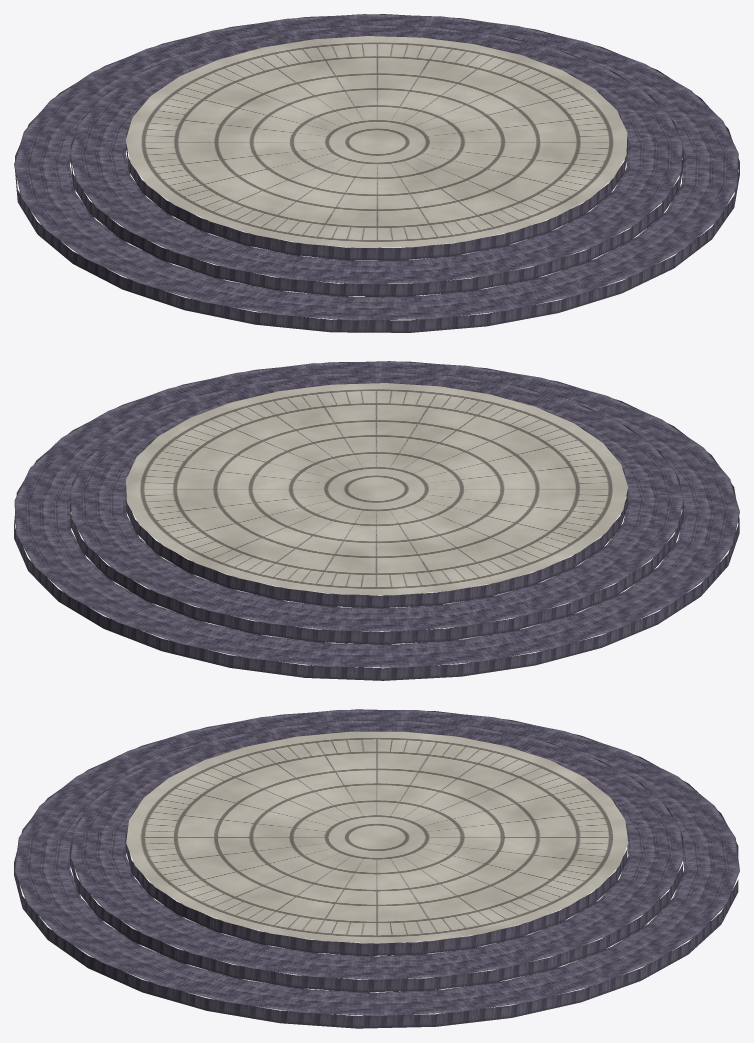
The model's file is Oracle_Hall_Dais_LOD1.gltf.
3 views of the same model, one above another, from view 1: azimuth 30°, elevation 25°; view 2: azimuth 150°, elevation 25°; view 3: azimuth 270°, elevation 25° (orthographic).
Parts seen in each view (by area): view 1: Oracle_Hall_Dais_LOD1; view 2: Oracle_Hall_Dais_LOD1; view 3: Oracle_Hall_Dais_LOD1.
Part boxes in pixels (x1,y1,x2,y2): Oracle_Hall_Dais_LOD1: (14, 14, 739, 332); Oracle_Hall_Dais_LOD1: (14, 361, 739, 680); Oracle_Hall_Dais_LOD1: (14, 709, 739, 1028).
Bounding box in the file's own units: 25.98 × 1.5 × 25.98.
Materials: 2 (2 with a texture image).
